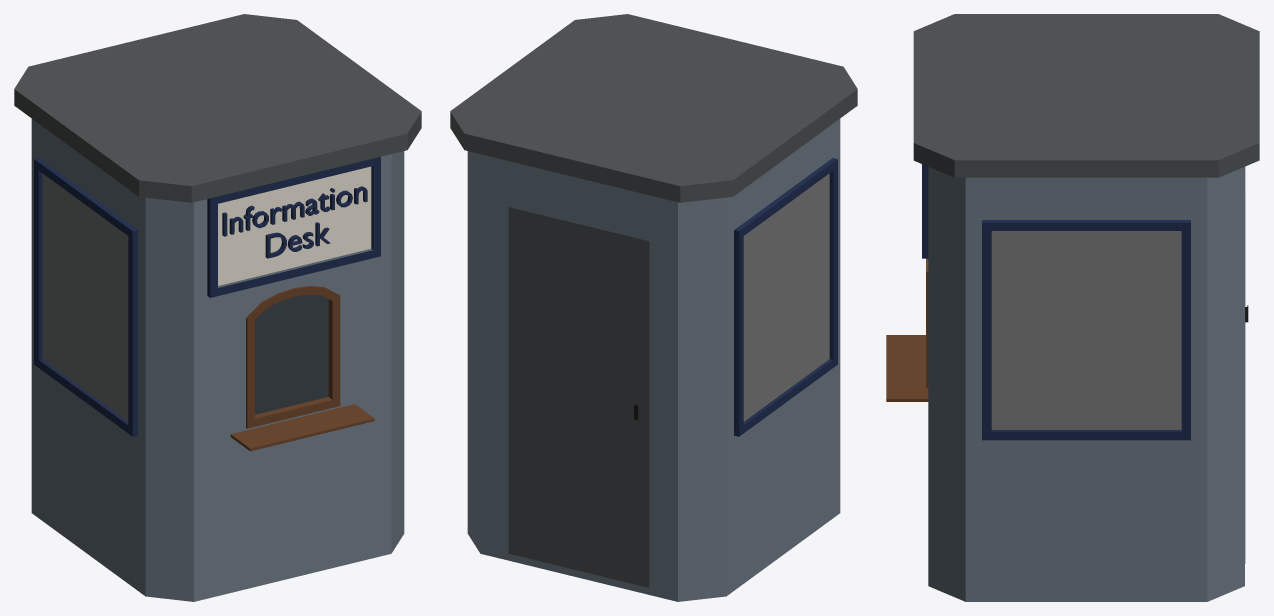
File: Information_desk.fbx
3 renders of one model, left to right at view 1: azimuth 30°, elevation 25°; view 2: azimuth 150°, elevation 25°; view 3: azimuth 270°, elevation 25°, orthographic. The views are drawn at different scales.
Parts seen in each view (by area): view 1: Information_desk; view 2: Information_desk, Information_desk_door; view 3: Information_desk.
Part boxes in pixels (bbox=[...]): Information_desk: bbox=[14, 14, 421, 601]; Information_desk: bbox=[450, 14, 857, 601]; Information_desk_door: bbox=[508, 207, 649, 587]; Information_desk: bbox=[886, 14, 1259, 601].
Size of the model in its own units: 219 by 312 by 236.
